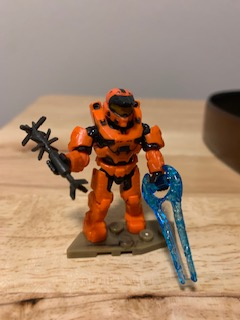spartan: (47, 88, 172, 240)
